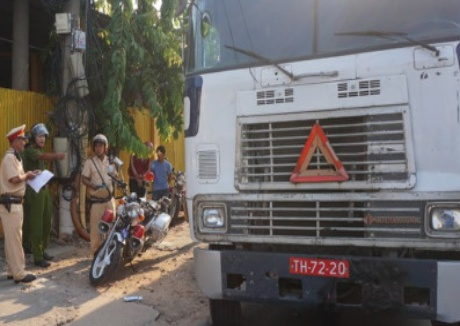plate: (285, 254, 350, 279)
